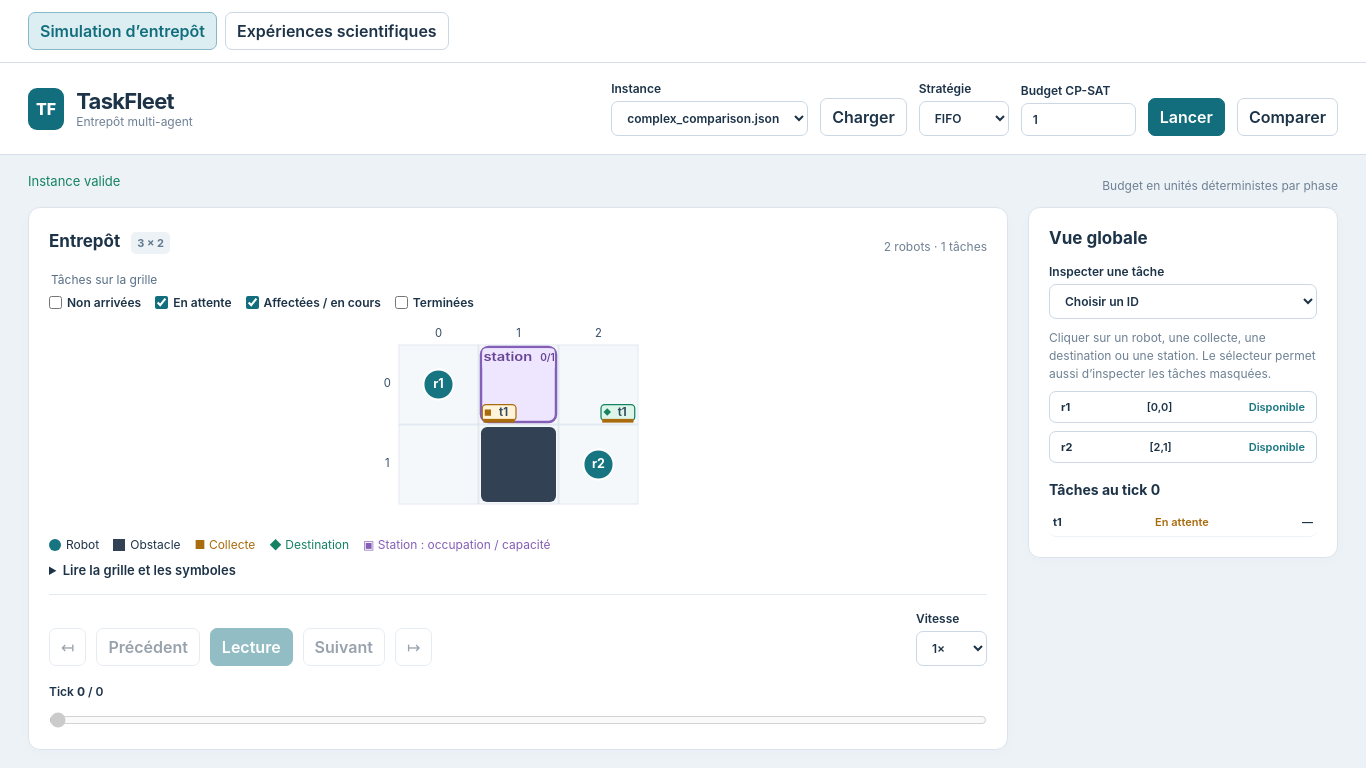
Scenario: TaskFleet UI › handles zero horizon and partial comparison failures without fabricated metrics
Click the button with test id "run".
click(1186, 117)  # box [1148,98,1225,136]
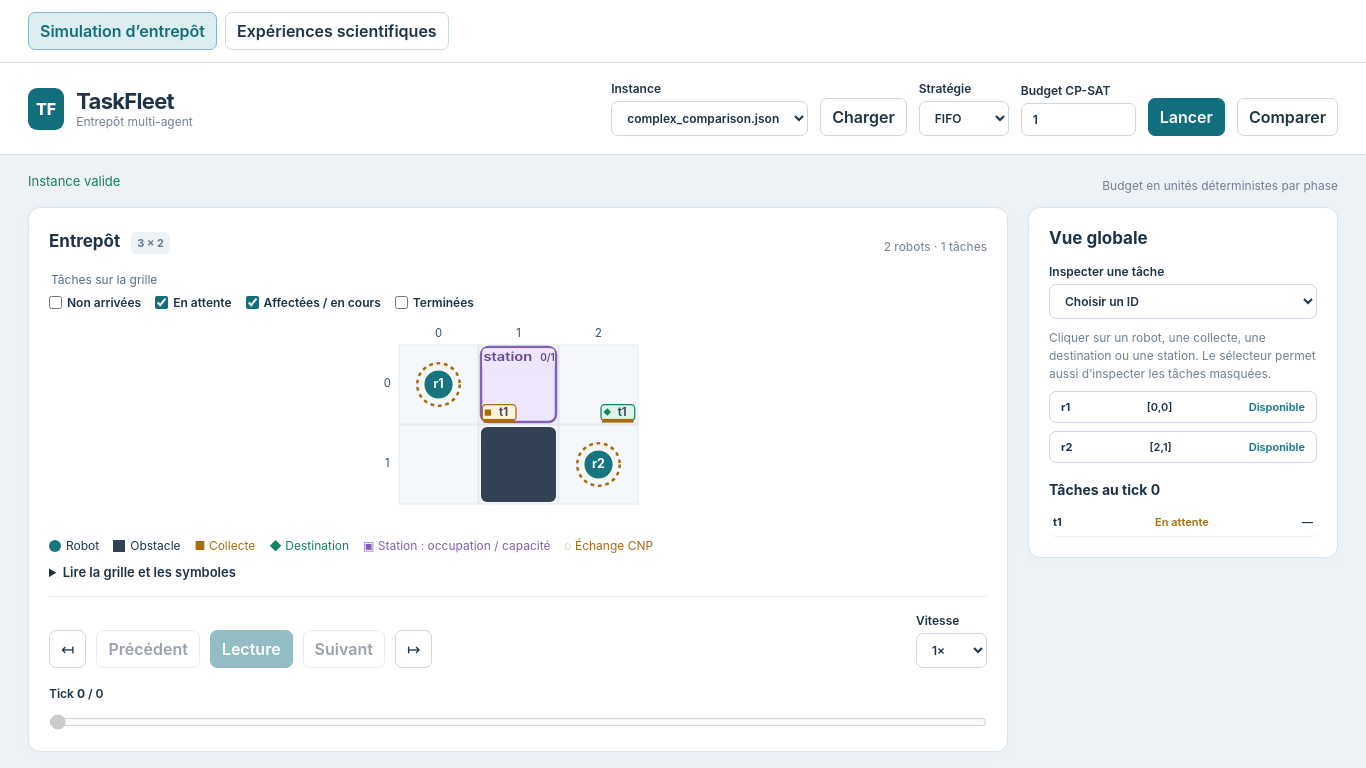
Expected: the button with test id "play" is disabled, [210,630,293,668]
Click the button with test id "compare".
click(1287, 117)  # box [1237,98,1338,136]
(page scrolled)
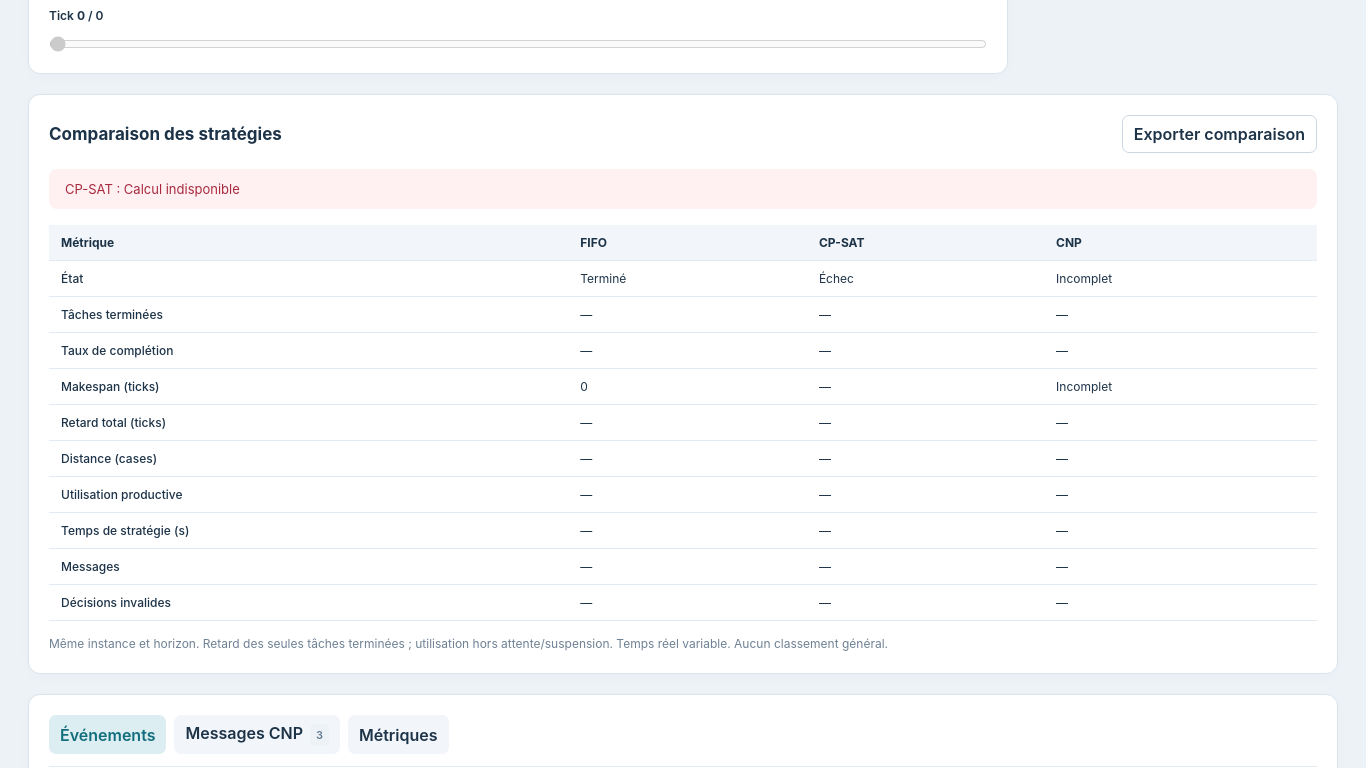
Now the element with test id "comparison" shows "CP-SAT : Calcul indisponible", box [65,181,240,197]
Now the element with test id "comparison" shows "Échec", box [819,271,854,286]
Now the element with test id "comparison" shows "Incomplet", box [1056,271,1112,286]
